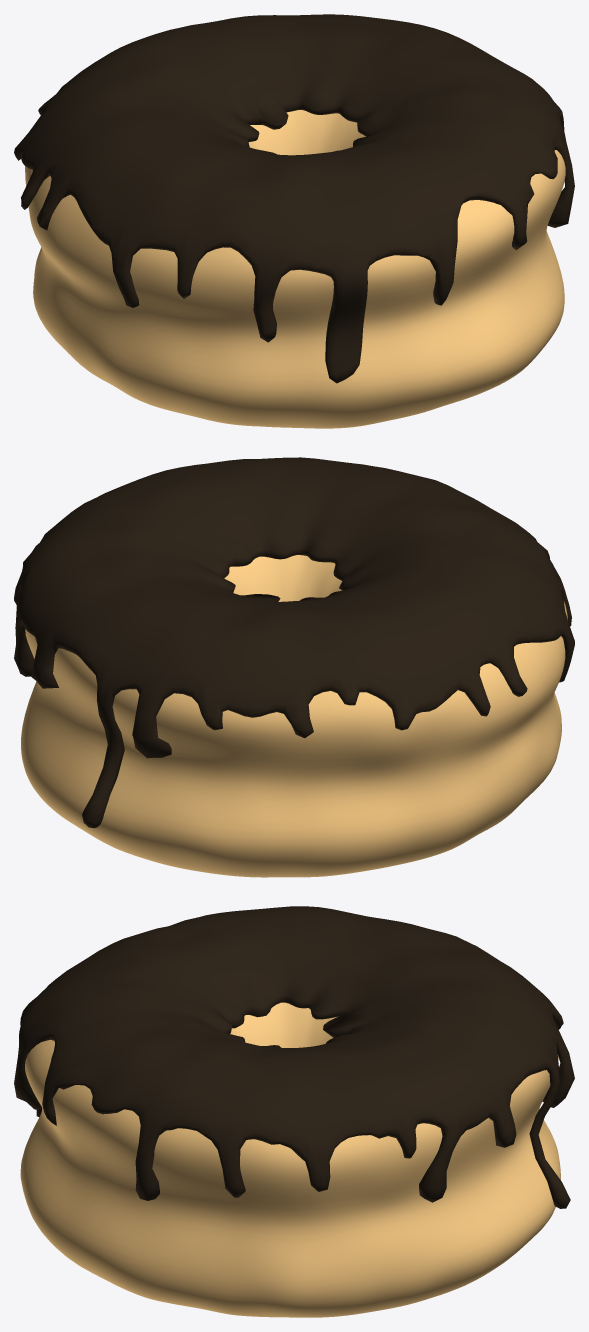
Rendered from donut.glb.
3 renders of one model, top to bottom at view 1: azimuth 30°, elevation 25°; view 2: azimuth 150°, elevation 25°; view 3: azimuth 270°, elevation 25°, orthographic. The views are drawn at different scales.
Parts seen in each view (by area): view 1: icing, dough; view 2: icing, dough; view 3: icing, dough.
Boxes of the visible parts, left/top/right/bottom form: icing: left=14, top=14, right=574, bottom=383; dough: left=25, top=110, right=565, bottom=428; icing: left=14, top=457, right=574, bottom=828; dough: left=21, top=555, right=567, bottom=877; icing: left=14, top=906, right=574, bottom=1208; dough: left=20, top=1002, right=560, bottom=1317.
Bounding box in the file's own units: 0.1693 × 0.0831 × 0.1704.
